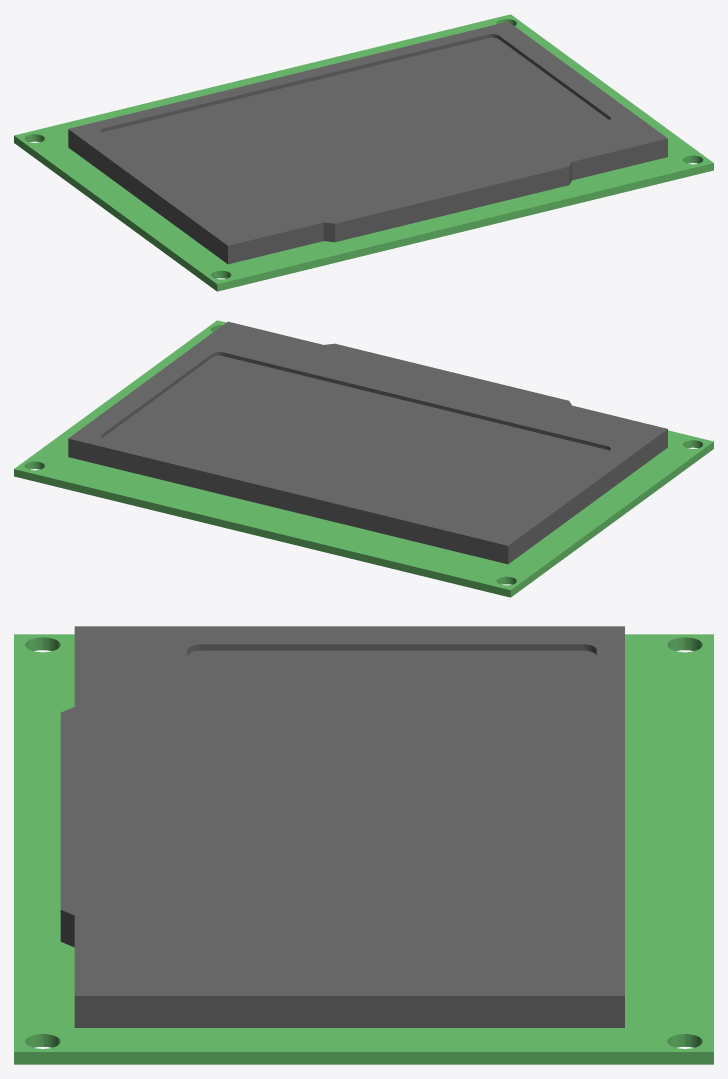
File: ada-2719.glb
3 renders of one model, top to bottom at view 1: azimuth 30°, elevation 25°; view 2: azimuth 150°, elevation 25°; view 3: azimuth 270°, elevation 25°, orthographic. The views are drawn at different scales.
Parts seen in each view (by area): view 1: 0.16666666666666666_0.16666666666666666_0.16666666666666666_, 0.16666666666666666_0.5833333333333334_0.16666666666666666_0; view 2: 0.16666666666666666_0.16666666666666666_0.16666666666666666_, 0.16666666666666666_0.5833333333333334_0.16666666666666666_0; view 3: 0.16666666666666666_0.16666666666666666_0.16666666666666666_, 0.16666666666666666_0.5833333333333334_0.16666666666666666_0.
Part boxes in pixels (x1=…): 0.16666666666666666_0.16666666666666666_0.16666666666666666_: x1=68, y1=21, x2=667, y2=264; 0.16666666666666666_0.5833333333333334_0.16666666666666666_0: x1=14, y1=14, x2=713, y2=291; 0.16666666666666666_0.16666666666666666_0.16666666666666666_: x1=68, y1=321, x2=667, y2=564; 0.16666666666666666_0.5833333333333334_0.16666666666666666_0: x1=14, y1=320, x2=713, y2=597; 0.16666666666666666_0.16666666666666666_0.16666666666666666_: x1=60, y1=626, x2=624, y2=1027; 0.16666666666666666_0.5833333333333334_0.16666666666666666_0: x1=14, y1=634, x2=713, y2=1064.
Size of the model in its own units: 7 by 0.3499 by 4.96.
